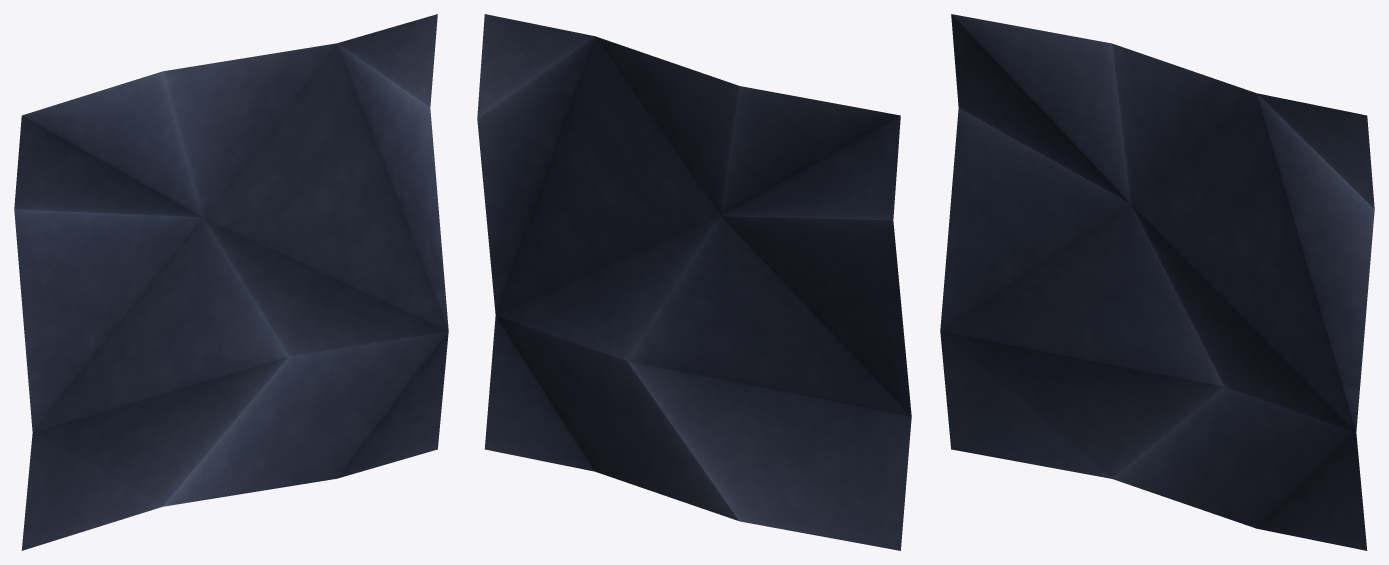
The model's file is SM_Wall_Face_A_A.fbx.
The picture shows the model from 3 angles, left to right: view 1: azimuth 30°, elevation 25°; view 2: azimuth 150°, elevation 25°; view 3: azimuth 330°, elevation 25°; orthographic projection.
Visible parts, largest first — view 1: pCube206; view 2: pCube206; view 3: pCube206.
Part boxes in pixels (x1=…): pCube206: x1=14, y1=14, x2=448, y2=550; pCube206: x1=477, y1=14, x2=911, y2=550; pCube206: x1=940, y1=14, x2=1374, y2=550.
Bounding box in the file's own units: 1 × 1 × 0.087.
